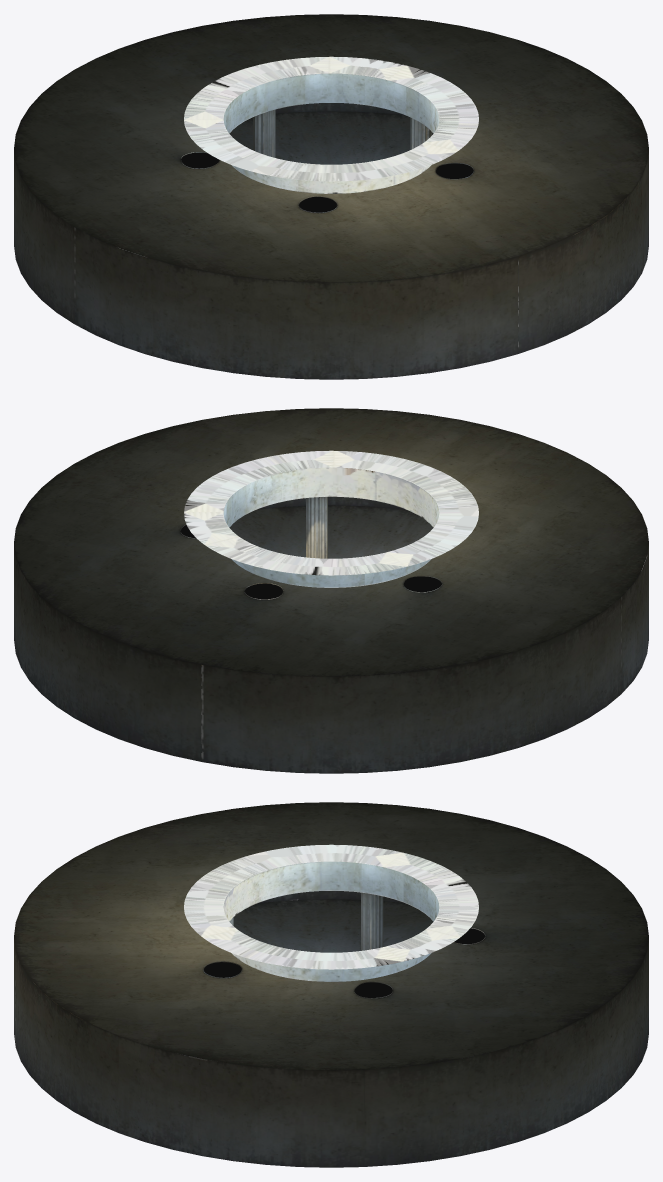
File: scene-jpeg-raw.glb
The picture shows the model from 3 angles, top to bottom: view 1: azimuth 30°, elevation 25°; view 2: azimuth 150°, elevation 25°; view 3: azimuth 270°, elevation 25°; orthographic projection.
Visible parts, largest first — view 1: leaves; view 2: leaves; view 3: leaves.
Boxes of the visible parts, x1=… form: leaves: x1=14, y1=14, x2=648, y2=379; leaves: x1=14, y1=408, x2=648, y2=773; leaves: x1=14, y1=802, x2=648, y2=1167.
Size of the model in its own units: 14.6 by 3.44 by 14.6.
1 material, 1 textured.
